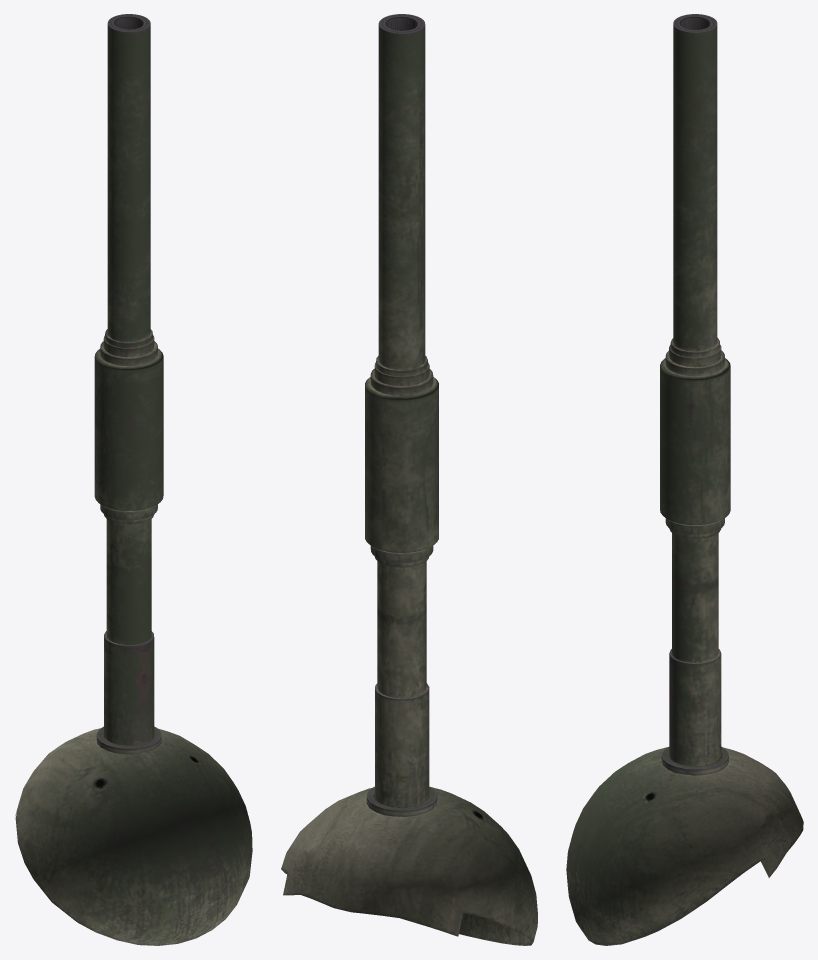
Rendered from Gun_01.glb.
3 views of the same model, side by side, from view 1: azimuth 30°, elevation 25°; view 2: azimuth 150°, elevation 25°; view 3: azimuth 270°, elevation 25° (orthographic). The views are drawn at different scales.
Parts seen in each view (by area): view 1: set_0_group_0; view 2: set_0_group_0; view 3: set_0_group_0.
Boxes of the visible parts, x1,y1,x2,y2 form: set_0_group_0: (15,14,252,945); set_0_group_0: (281,14,537,945); set_0_group_0: (566,14,803,945).
Bounding box in the file's own units: 0.775 × 3.09 × 0.7345.
1 material, 1 textured.
